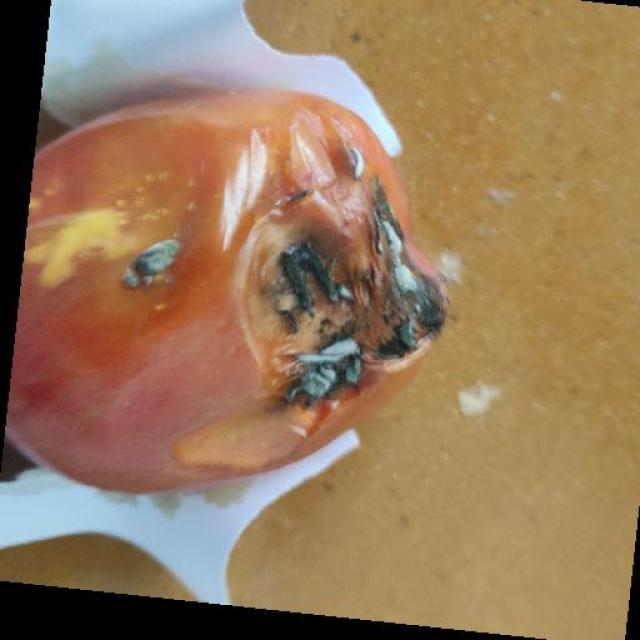Stale_tomato: (26, 88, 450, 502)
